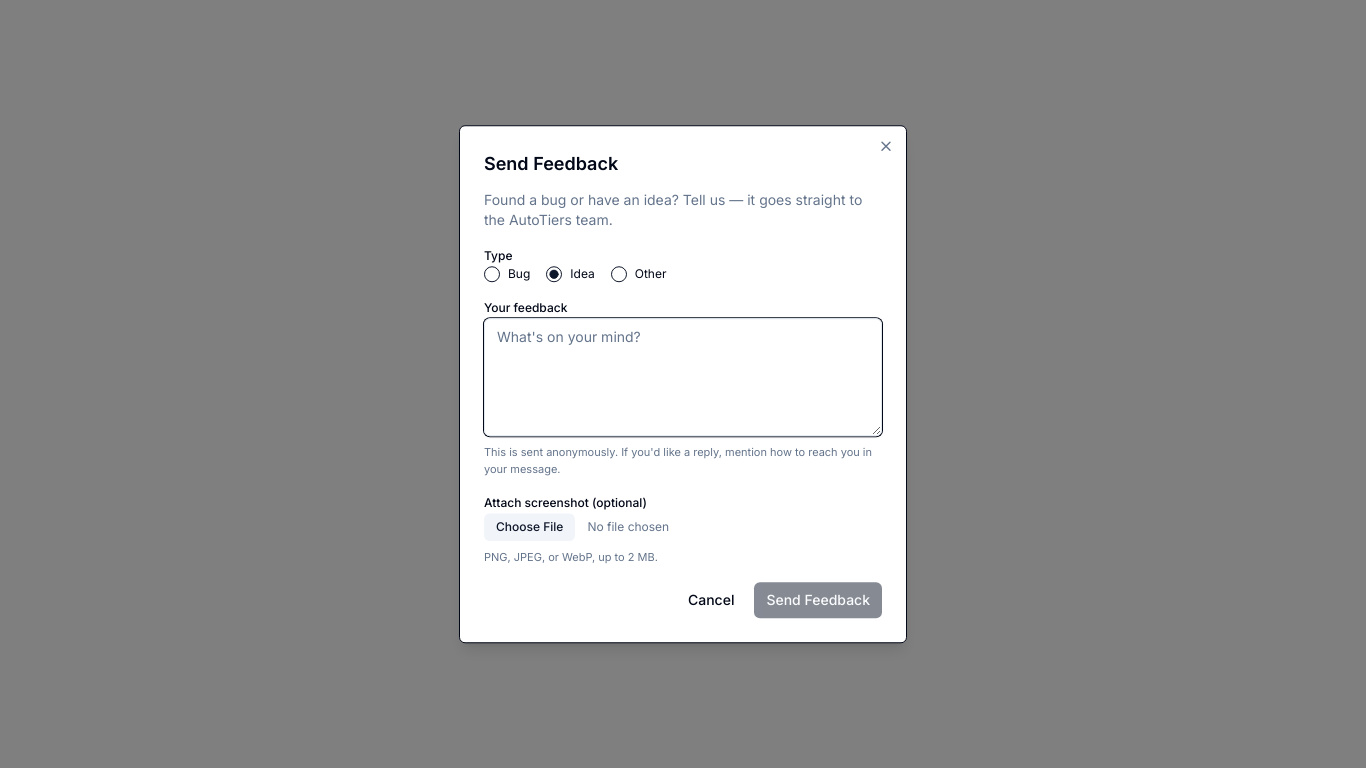
Test: FeedbackDialog › shows an alert error and stays open when the send fails
The width and height of the screenshot is (1366, 768).
In the text box labelled "Your feedback": (683, 377) [484,318,882,436], type "will fail"
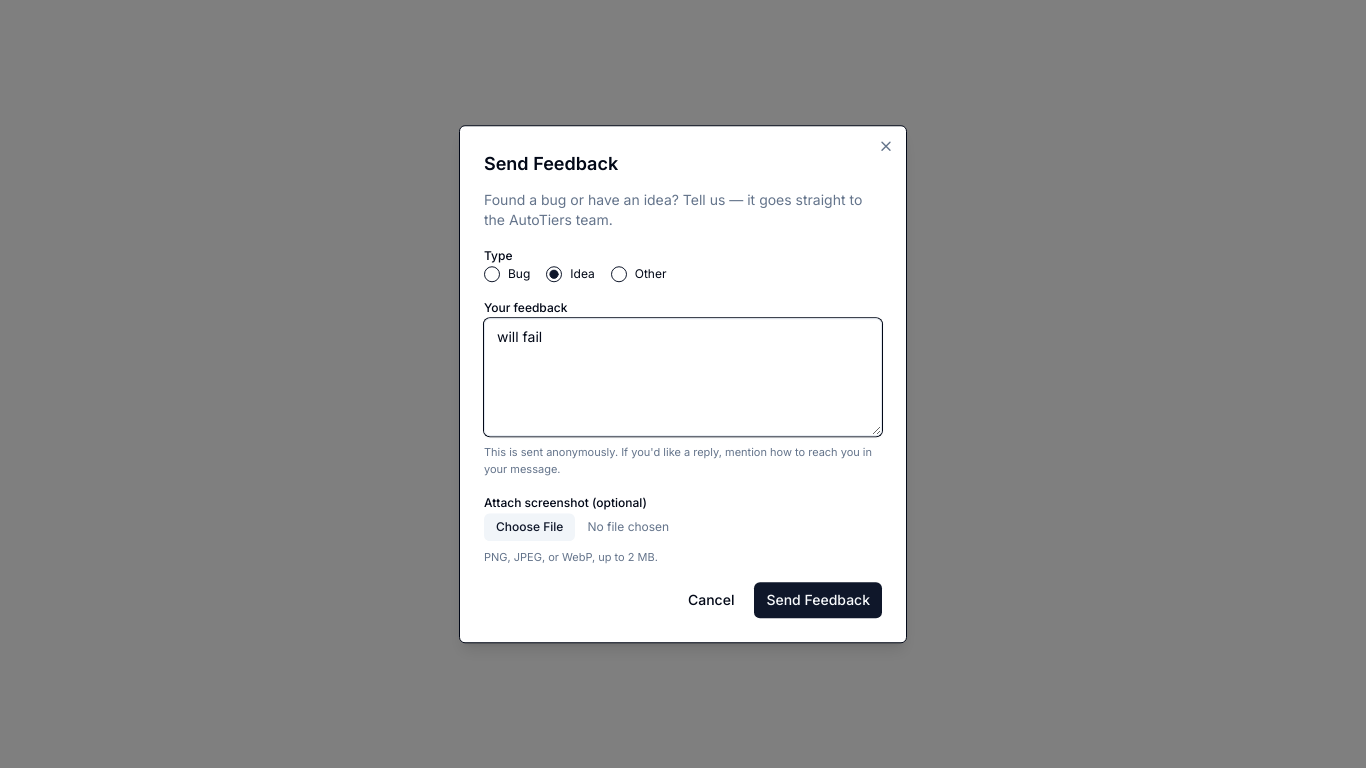
Click the button "Send Feedback": (818, 600) [754,582,882,618]
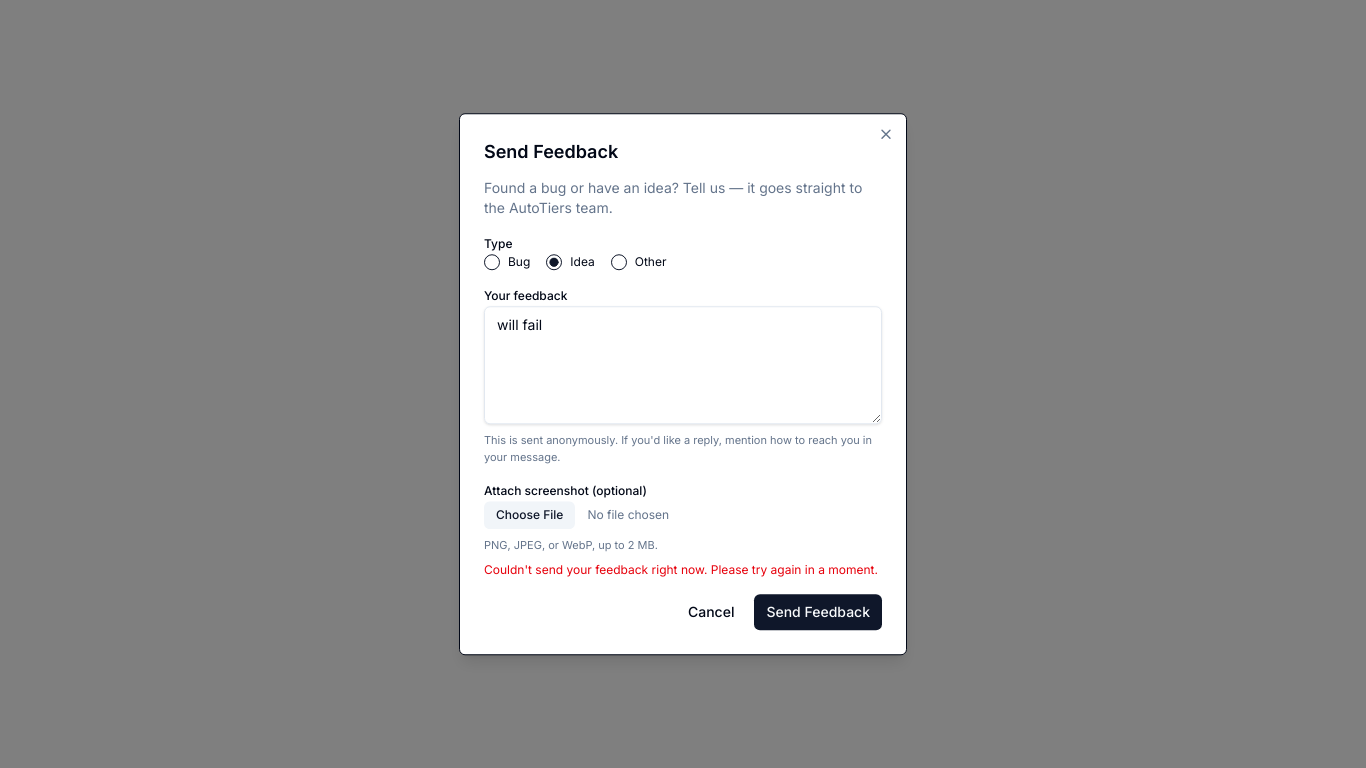
Now the message shows "try again", box [484,562,878,577]
